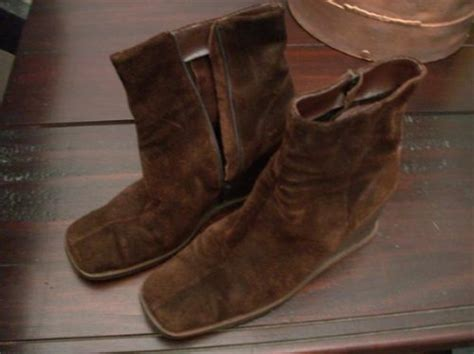gamuza: (65, 3, 427, 335)
